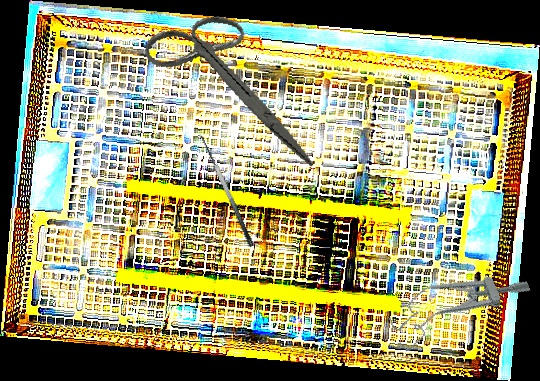Iris Scissors: (127, 1, 340, 168)
Spatula Surgical: (191, 131, 256, 252)
Speculum: (381, 250, 535, 356)
